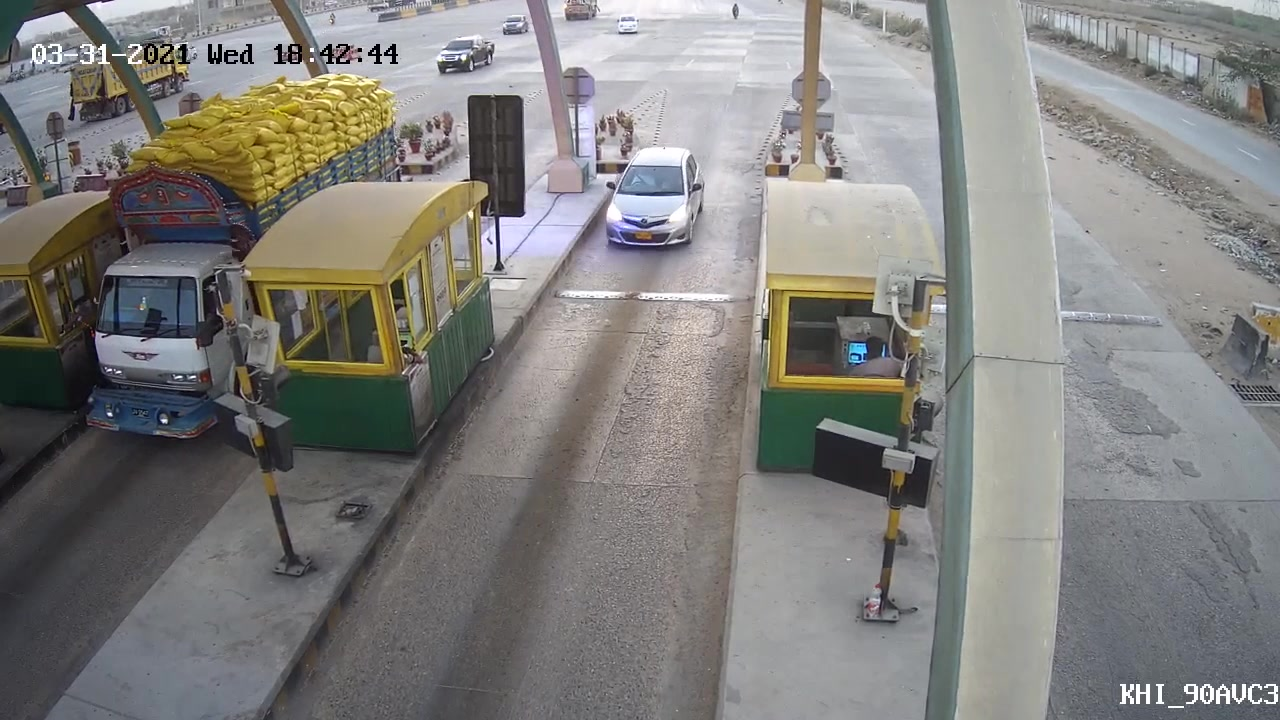F1: (596, 140, 712, 253)
